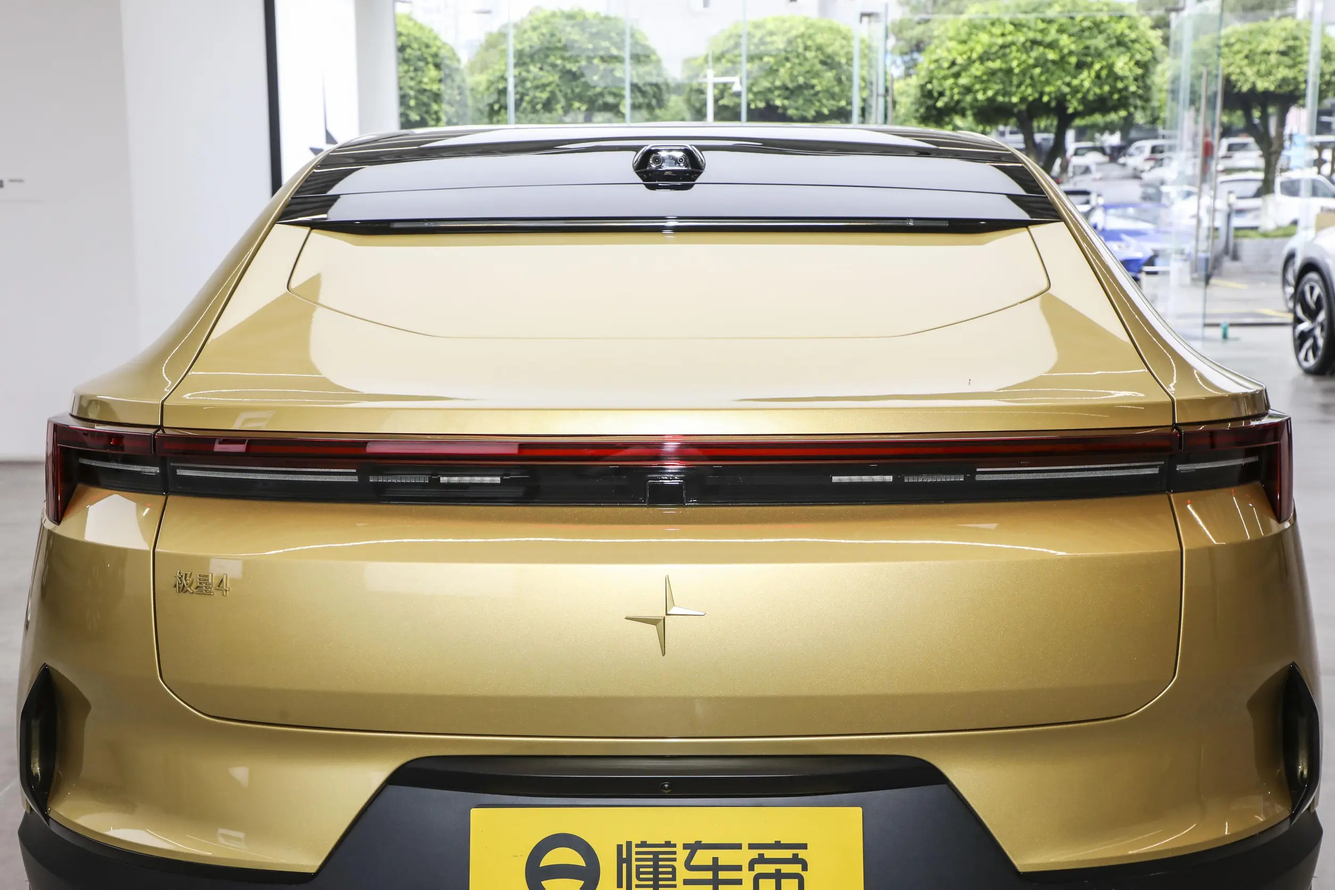Polestar: (625, 575, 705, 656)
